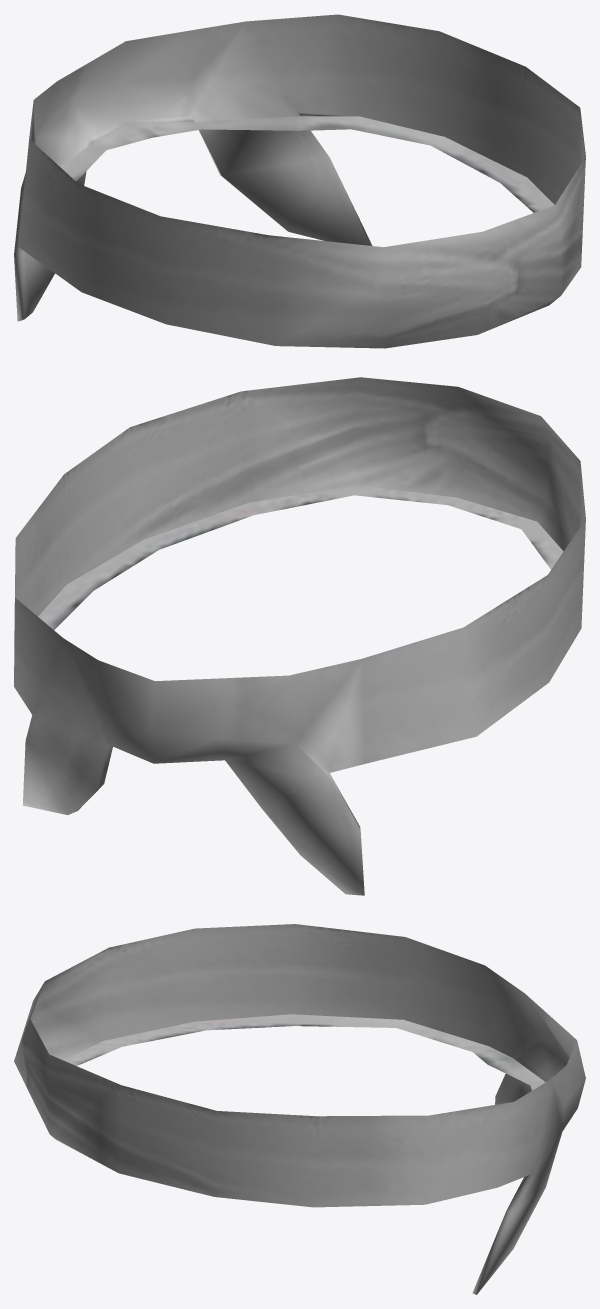
Rendered from rider-helmet-slice-base.glb.
The picture shows the model from 3 angles, top to bottom: view 1: azimuth 30°, elevation 25°; view 2: azimuth 150°, elevation 25°; view 3: azimuth 270°, elevation 25°; orthographic projection. The views are drawn at different scales.
Bounding box in the file's own units: 0.2111 × 0.112 × 0.2711.
1 material, 1 textured.
